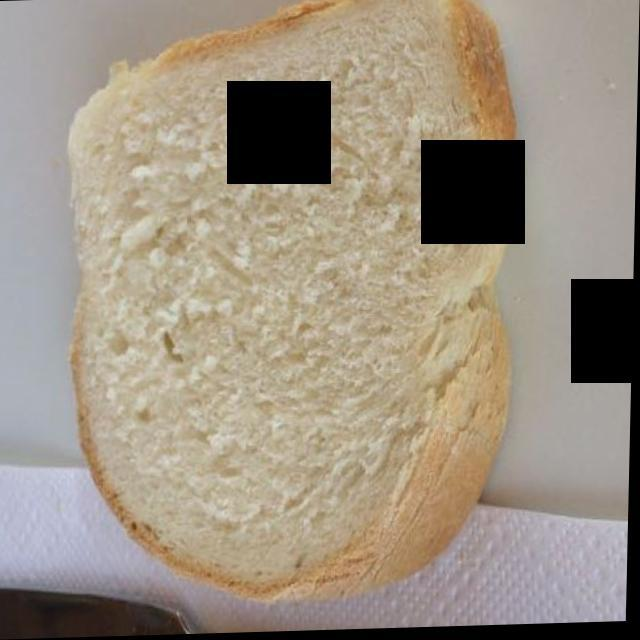bread: (69, 11, 518, 597)
